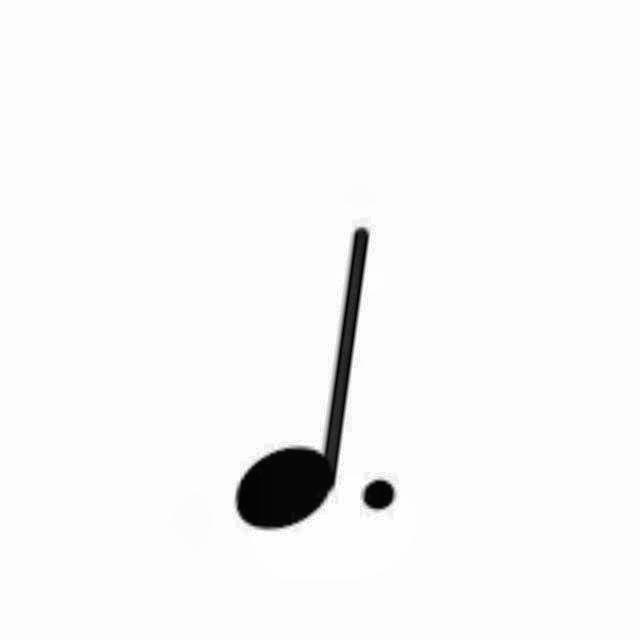Quarter-dot: (218, 215, 438, 540)
